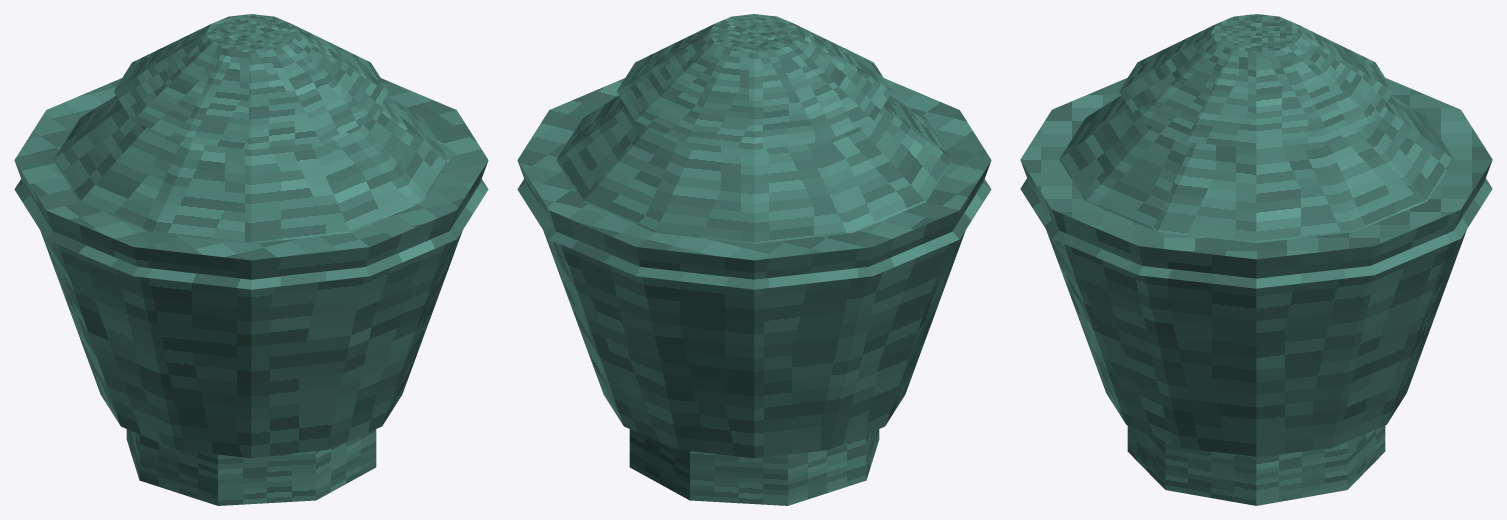
File: urn_16.glb
3 renders of one model, left to right at view 1: azimuth 30°, elevation 25°; view 2: azimuth 150°, elevation 25°; view 3: azimuth 270°, elevation 25°, orthographic.
Parts seen in each view (by area): view 1: Belly, Neck, Lid, Foot; view 2: Belly, Neck, Lid, Foot; view 3: Belly, Neck, Lid, Foot.
Boxes of the visible parts, <box> form: Belly: <box>14,78,488,458</box>; Neck: <box>14,96,488,289</box>; Lid: <box>113,14,389,149</box>; Foot: <box>126,429,376,505</box>; Belly: <box>517,78,991,458</box>; Neck: <box>517,96,991,289</box>; Lid: <box>616,14,892,149</box>; Foot: <box>629,429,879,505</box>; Belly: <box>1020,78,1492,456</box>; Neck: <box>1020,95,1492,288</box>; Lid: <box>1119,14,1393,149</box>; Foot: <box>1127,426,1385,505</box>.
Size of the model in its own units: 1.03 by 1.01 by 1.03.
Materials: 1 (1 with a texture image).
